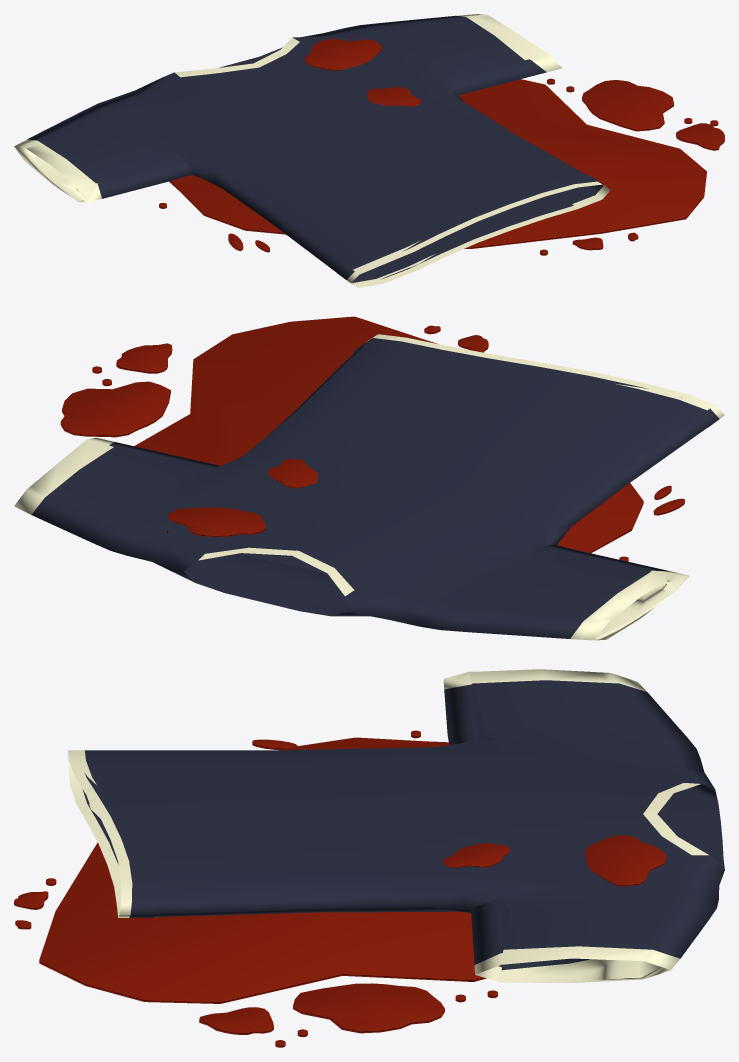
Rendered from tshirtblood1.fbx.
3 views of the same model, one above another, from view 1: azimuth 30°, elevation 25°; view 2: azimuth 150°, elevation 25°; view 3: azimuth 270°, elevation 25° (orthographic). The views are drawn at different scales.
Visible parts, largest first — view 1: Cube; view 2: Cube; view 3: Cube.
Part boxes in pixels (bbox=[...]): Cube: bbox=[14, 14, 724, 287]; Cube: bbox=[14, 316, 724, 640]; Cube: bbox=[14, 669, 724, 1047].
Bounding box in the file's own units: 421 × 22.86 × 358.
